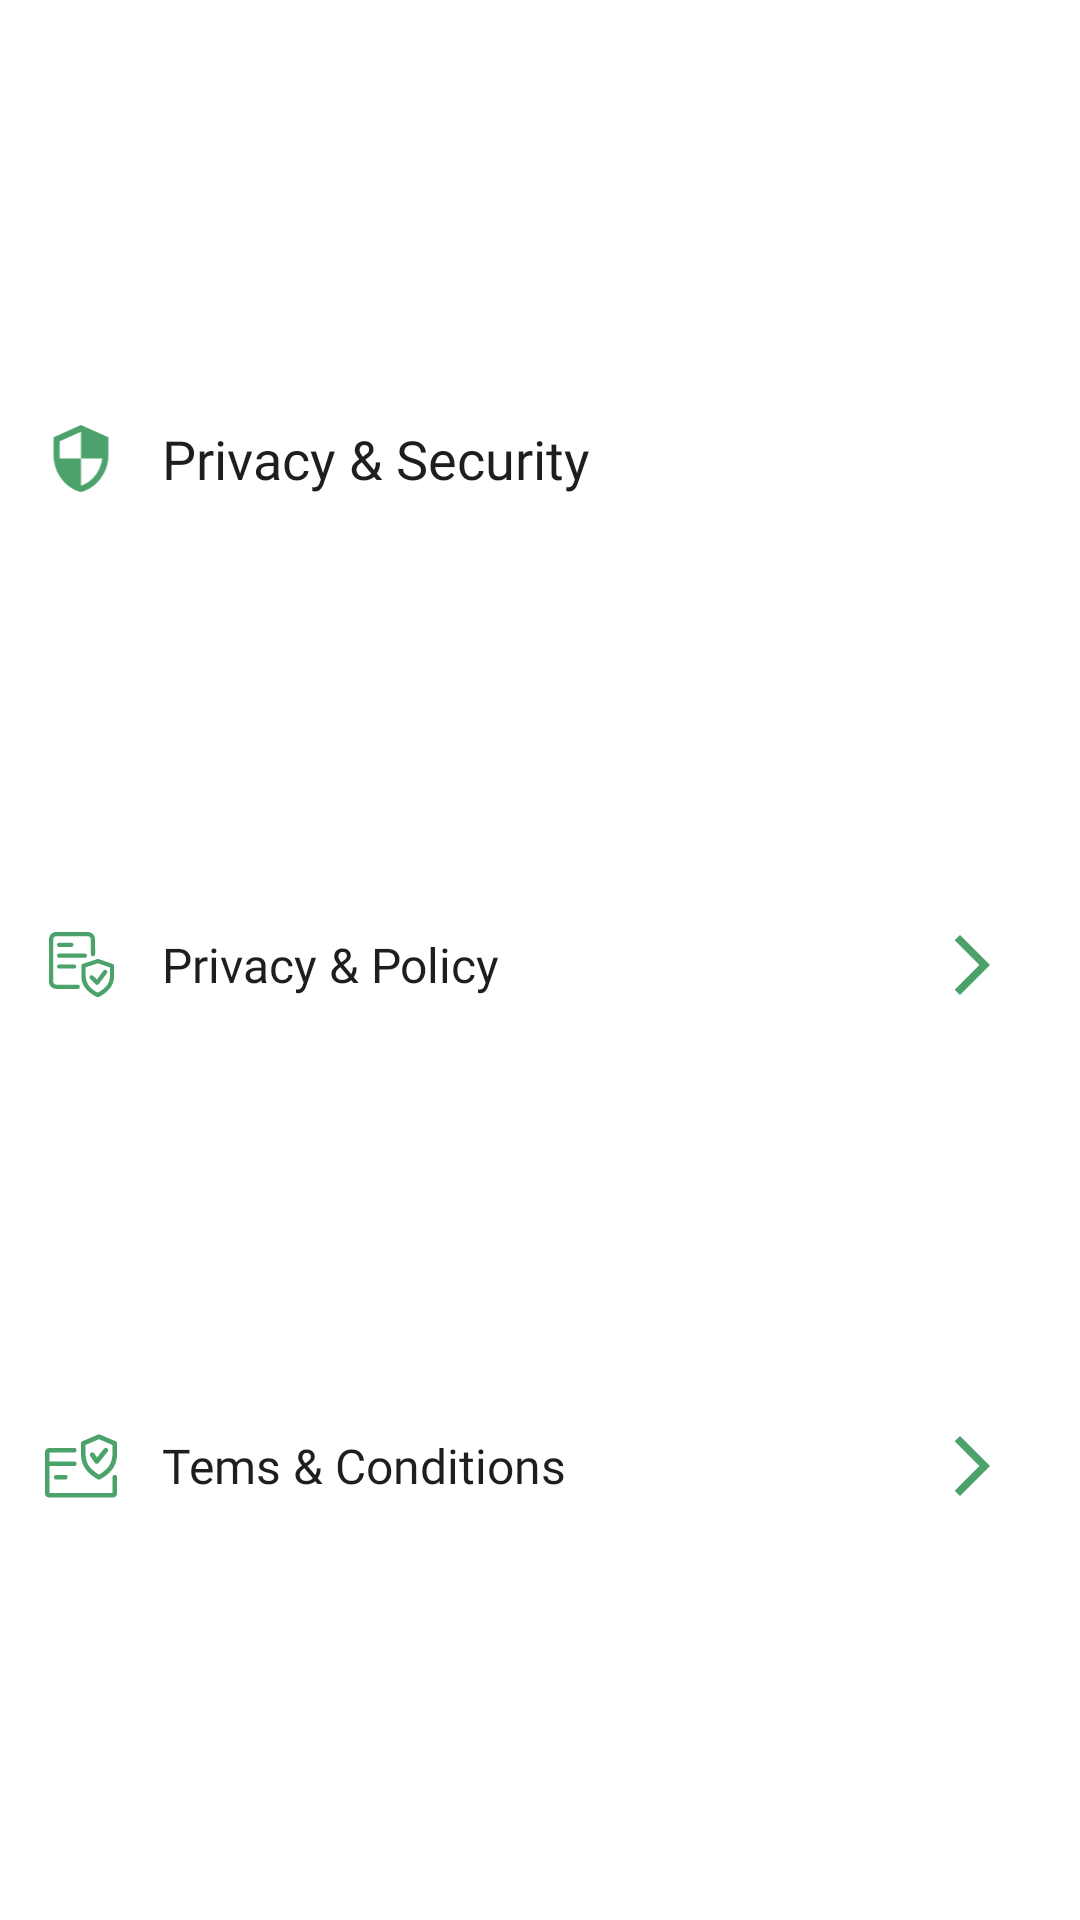

Locate icon controls on the screen. Image size 1080 × 1920, boxes as (x1, y1, x2, y2).
next: (955, 935, 990, 995), (955, 1436, 990, 1496)
